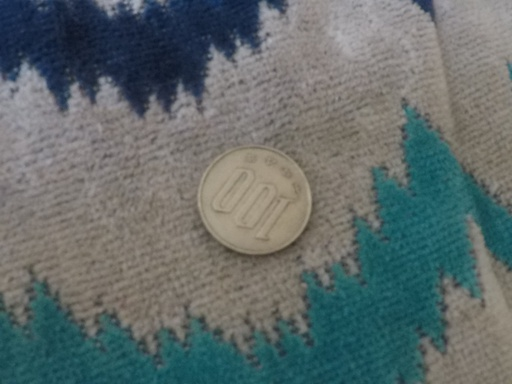100yen: (198, 146, 311, 255)
